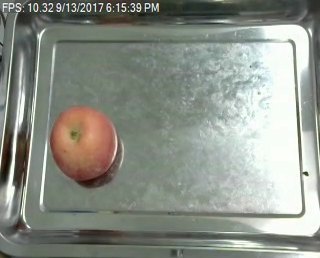Apple: (50, 105, 118, 182)
